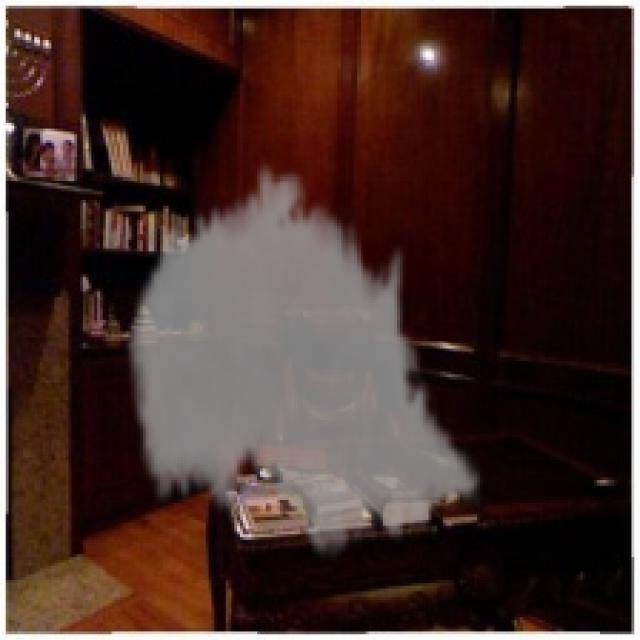Smoke: (123, 157, 483, 569)
